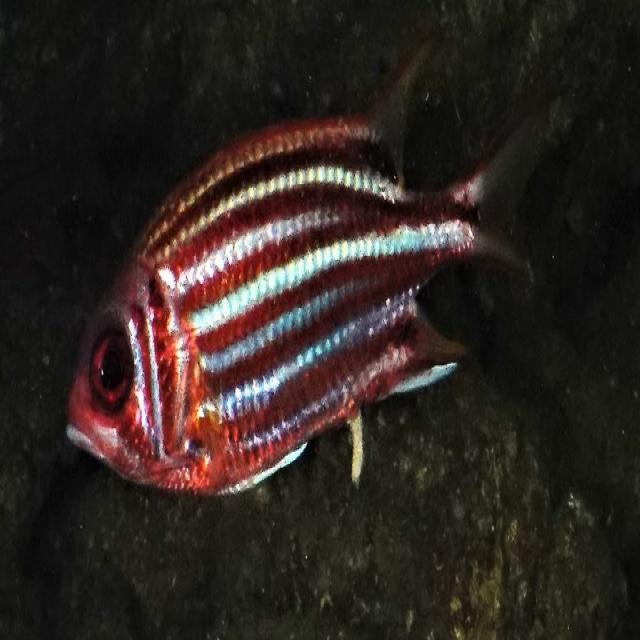Asker Baligi: (59, 15, 537, 518)
